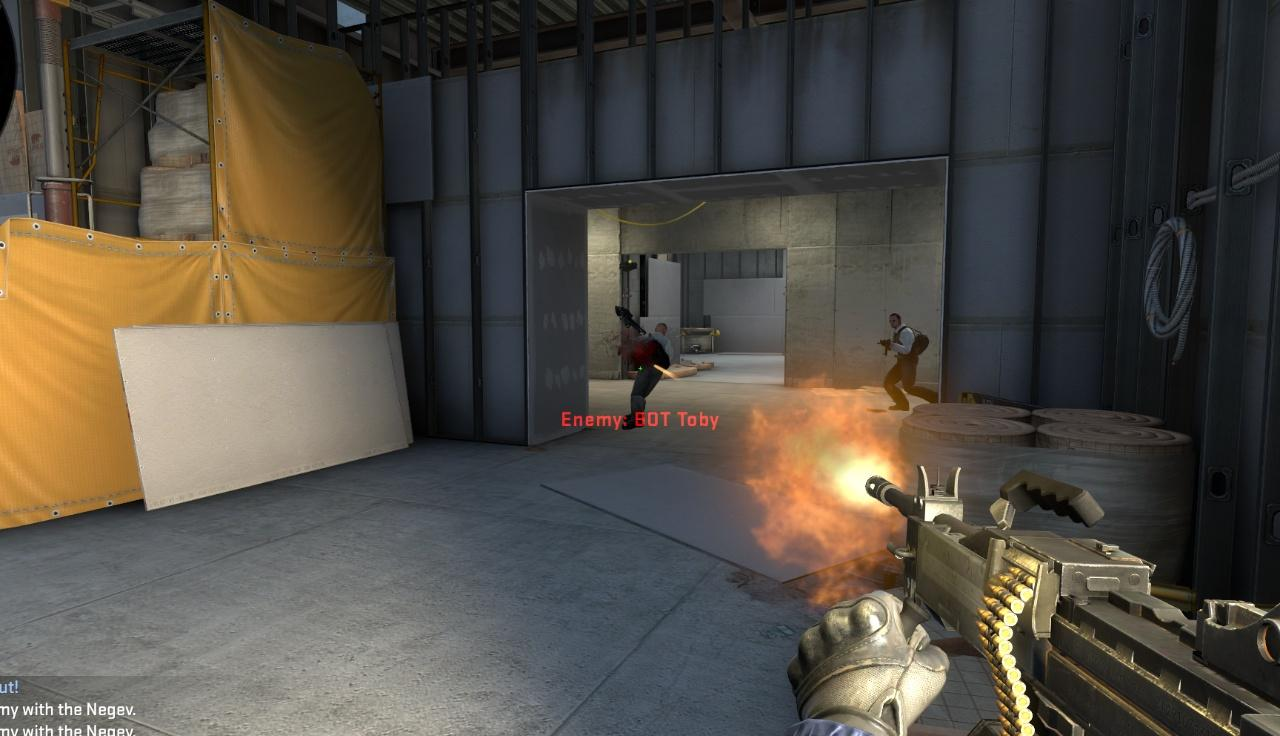rifle: (851, 458, 1280, 736)
tt: (883, 312, 924, 405)
tthead: (887, 313, 902, 329)
